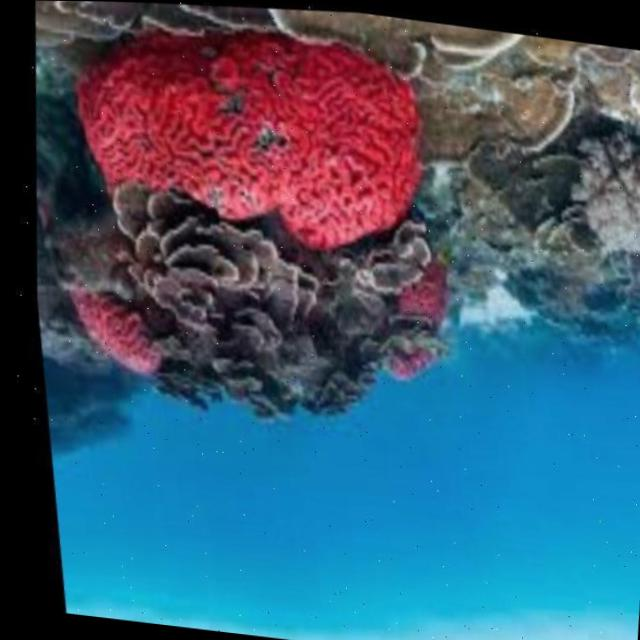Dead Coral: (137, 193, 412, 385)
Healthy Coral: (24, 0, 486, 241), (55, 277, 159, 387)
